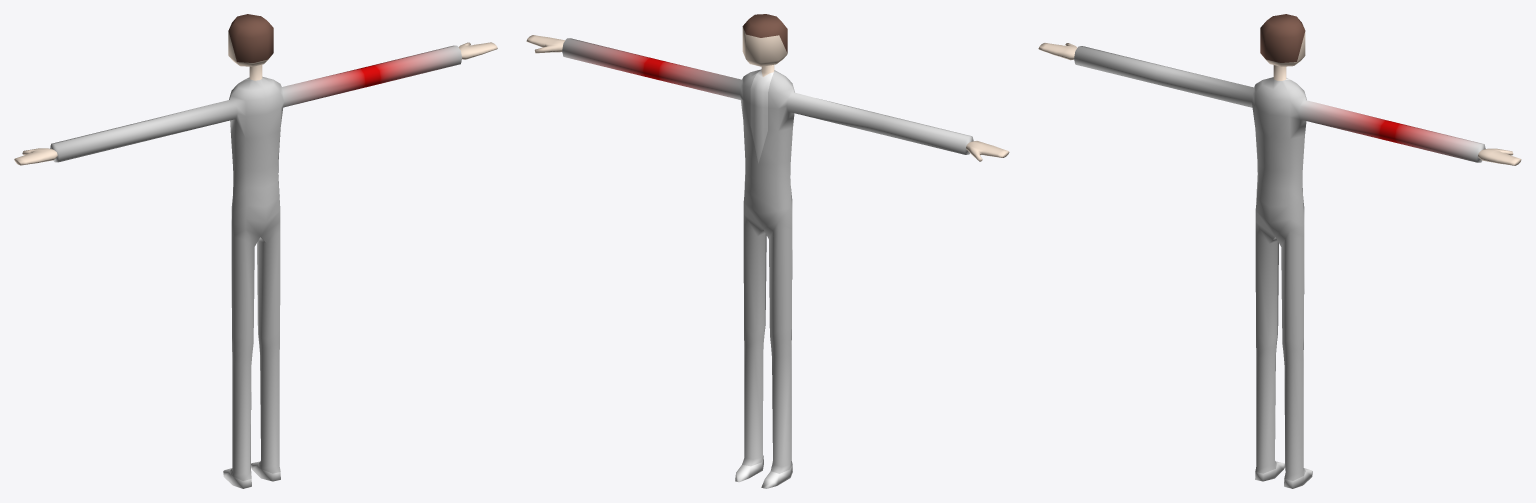
Rendered from PlayerModel.obj.
The picture shows the model from 3 angles, left to right: view 1: azimuth 30°, elevation 25°; view 2: azimuth 150°, elevation 25°; view 3: azimuth 330°, elevation 25°; orthographic projection.
Visible parts, largest first — view 1: PlayerModel_0, PlayerModel_3, PlayerModel_2; view 2: PlayerModel_0, PlayerModel_2, PlayerModel_6, PlayerModel_5, PlayerModel_4; view 3: PlayerModel_0, PlayerModel_3, PlayerModel_2.
Boxes of the visible parts, x1,y1,x2,y2 form: PlayerModel_0: (51,45,461,480); PlayerModel_3: (228,17,273,62); PlayerModel_2: (14,42,497,165); PlayerModel_0: (562,38,971,473); PlayerModel_2: (526,27,1009,160); PlayerModel_6: (743,74,973,164); PlayerModel_5: (754,80,765,163); PlayerModel_4: (750,74,771,130); PlayerModel_0: (1074,46,1484,480); PlayerModel_3: (1260,17,1305,62); PlayerModel_2: (1038,43,1521,165).
Size of the model in its own units: 5.65 by 5.16 by 0.5822.
